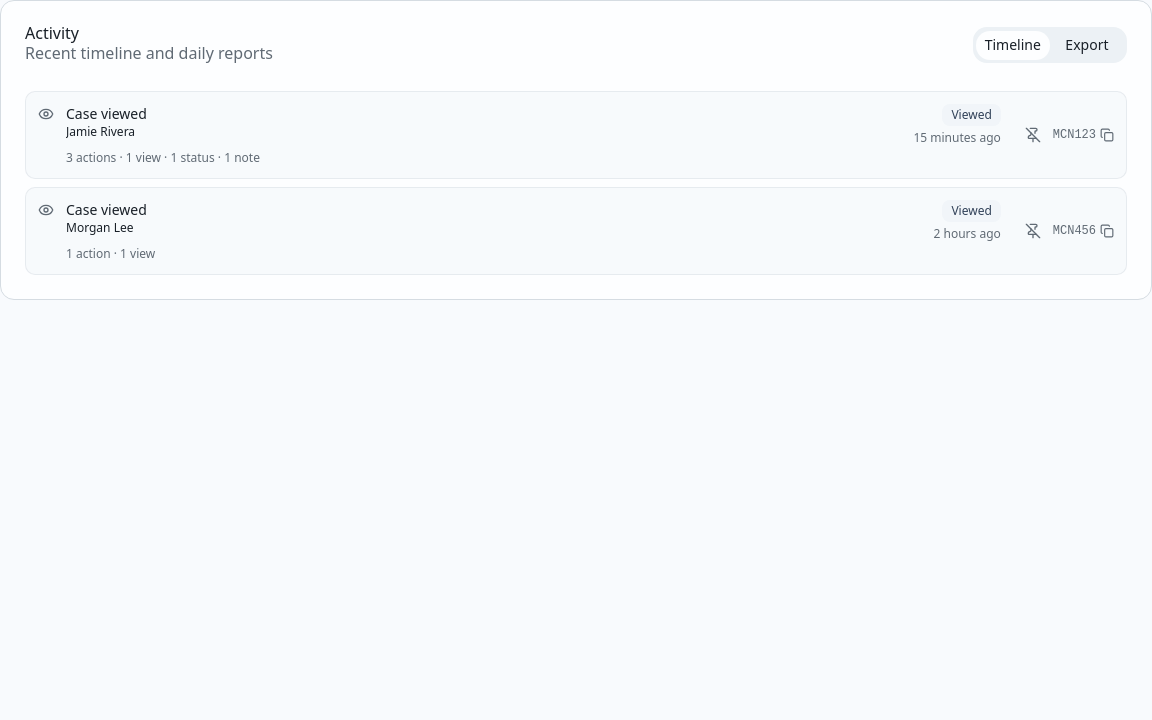
ActivityWidget › consolidates recent activity to one row per case and opens a detail dialog
The width and height of the screenshot is (1152, 720).
Expected: the text "3 actions · 1 view · 1 status · 1 note" is shown, [66,149,260,166]
What coordinates should you click on to do the following:
click the button with aria-label "View activity for "
I would click on:
 (106, 114)
Its box is [26,92,1013,178].
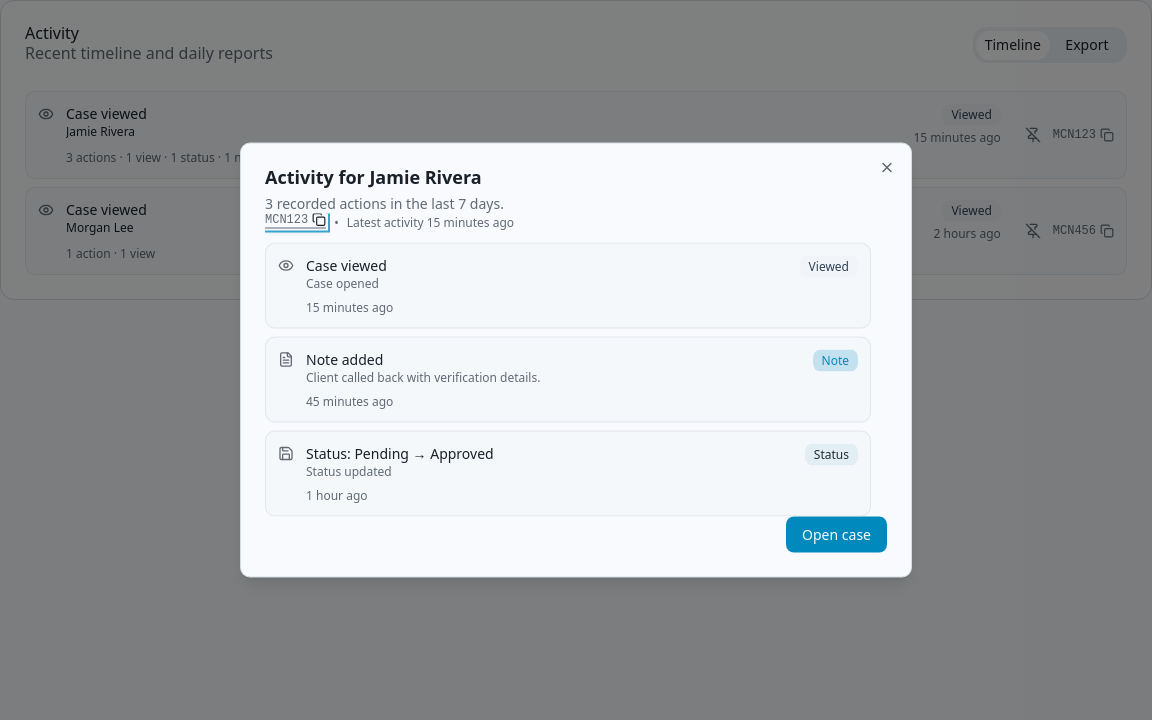
Now the heading "Activity for Jamie Rivera" is shown, box [265,164,482,188]
Now the text "Status: Pending → Approved" is shown, box [306,444,494,464]
Now the text "Note added" is shown, box [306,350,383,368]
What coordinates should you click on to do the following:
click the button "Open case"
I would click on:
 (837, 534)
Its box is [786,516,887,552].
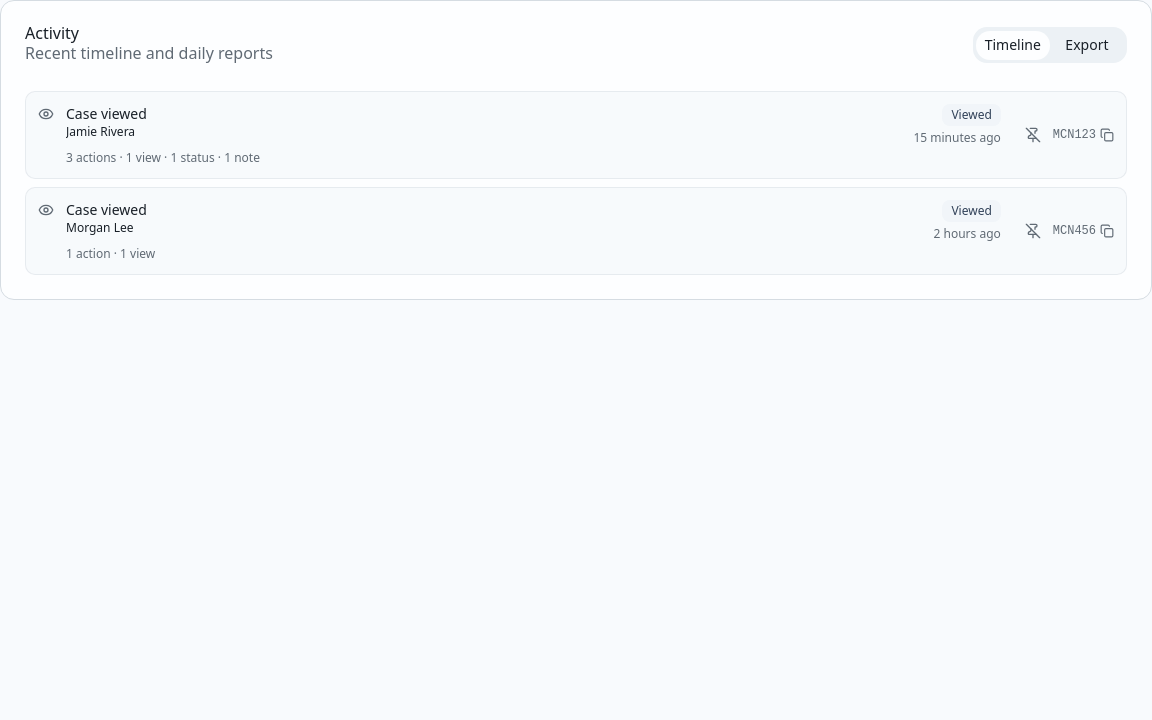
Now the dialog is gone
